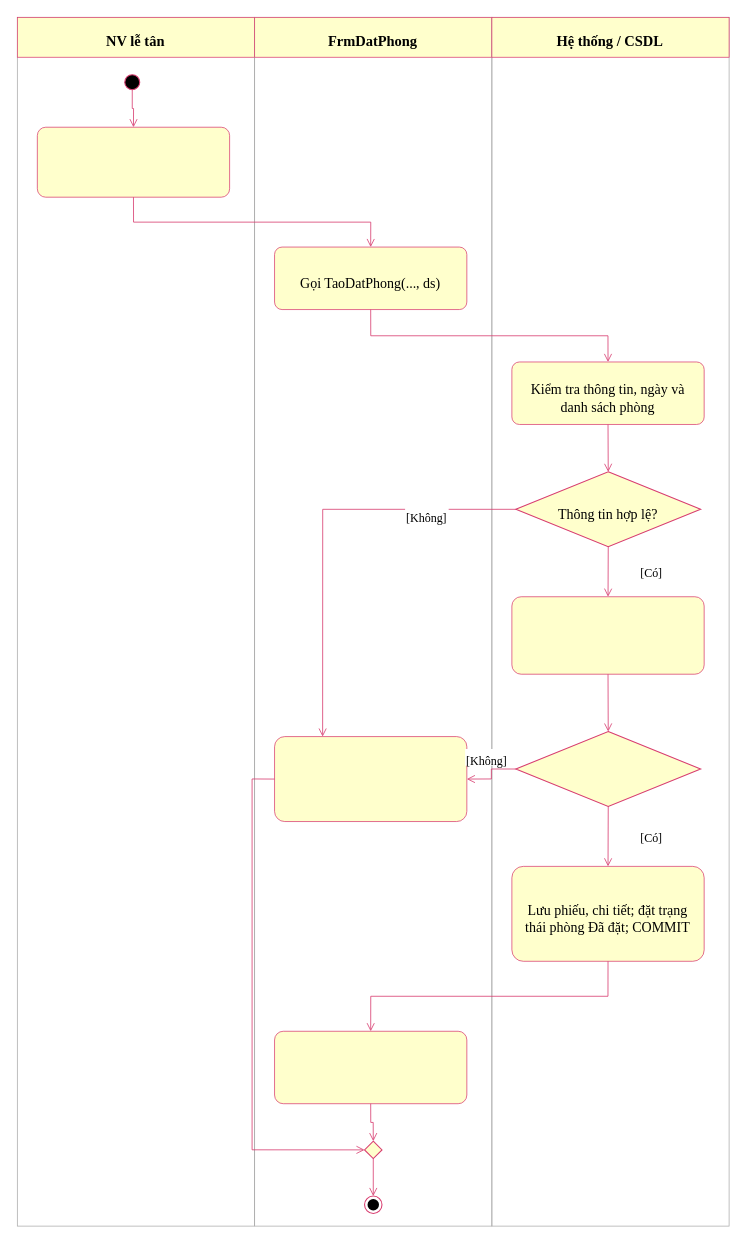
The diagram is 747 pixels wide and 1243 high, and some of its shapes have lost their labels. The centre of each missing label's shape, as x and y in pixels:
"Mở giao dịch; duyệt phòng, đọc sức chứa và kiểm tra lịch" belongs at (607,635).
"Nhập khách, phòng, số người, ngày và tiền cọc" belongs at (132,161).
"Thông báo thành công; tải lại danh sách" belongs at (370,1067).
"Trả lỗi; hủy giao dịch đang mở nếu có" belongs at (370,778).
"Đủ sức chứa và không trùng lịch?" belongs at (608,768).
